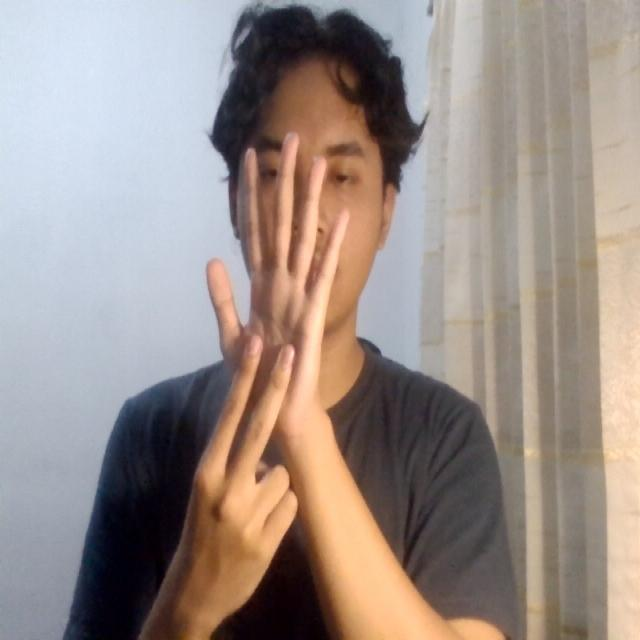IloveYou: (191, 113, 368, 543)
